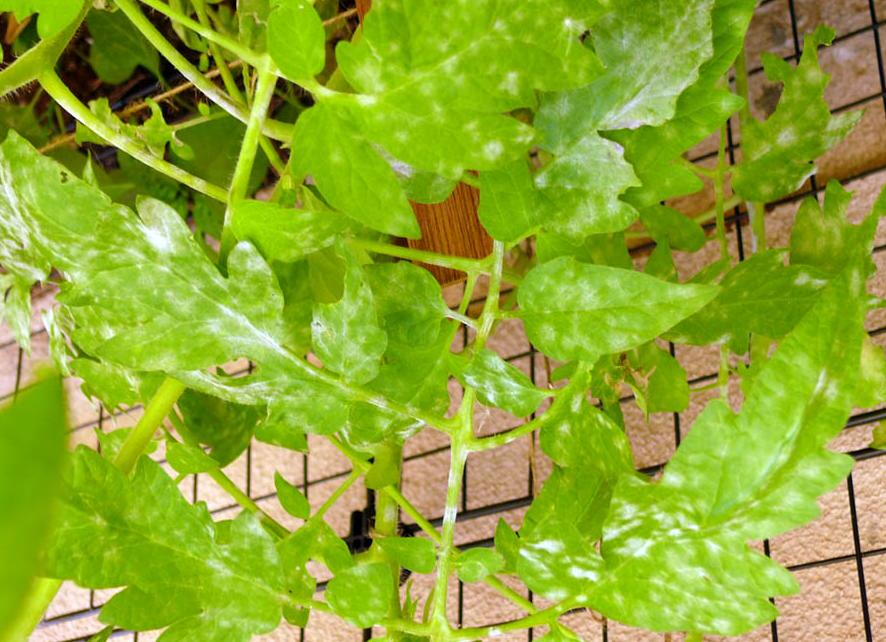Tomato mold leaf: (573, 137, 886, 621), (3, 126, 383, 437), (278, 0, 617, 240), (8, 462, 333, 642), (498, 260, 745, 365), (442, 347, 534, 418)
